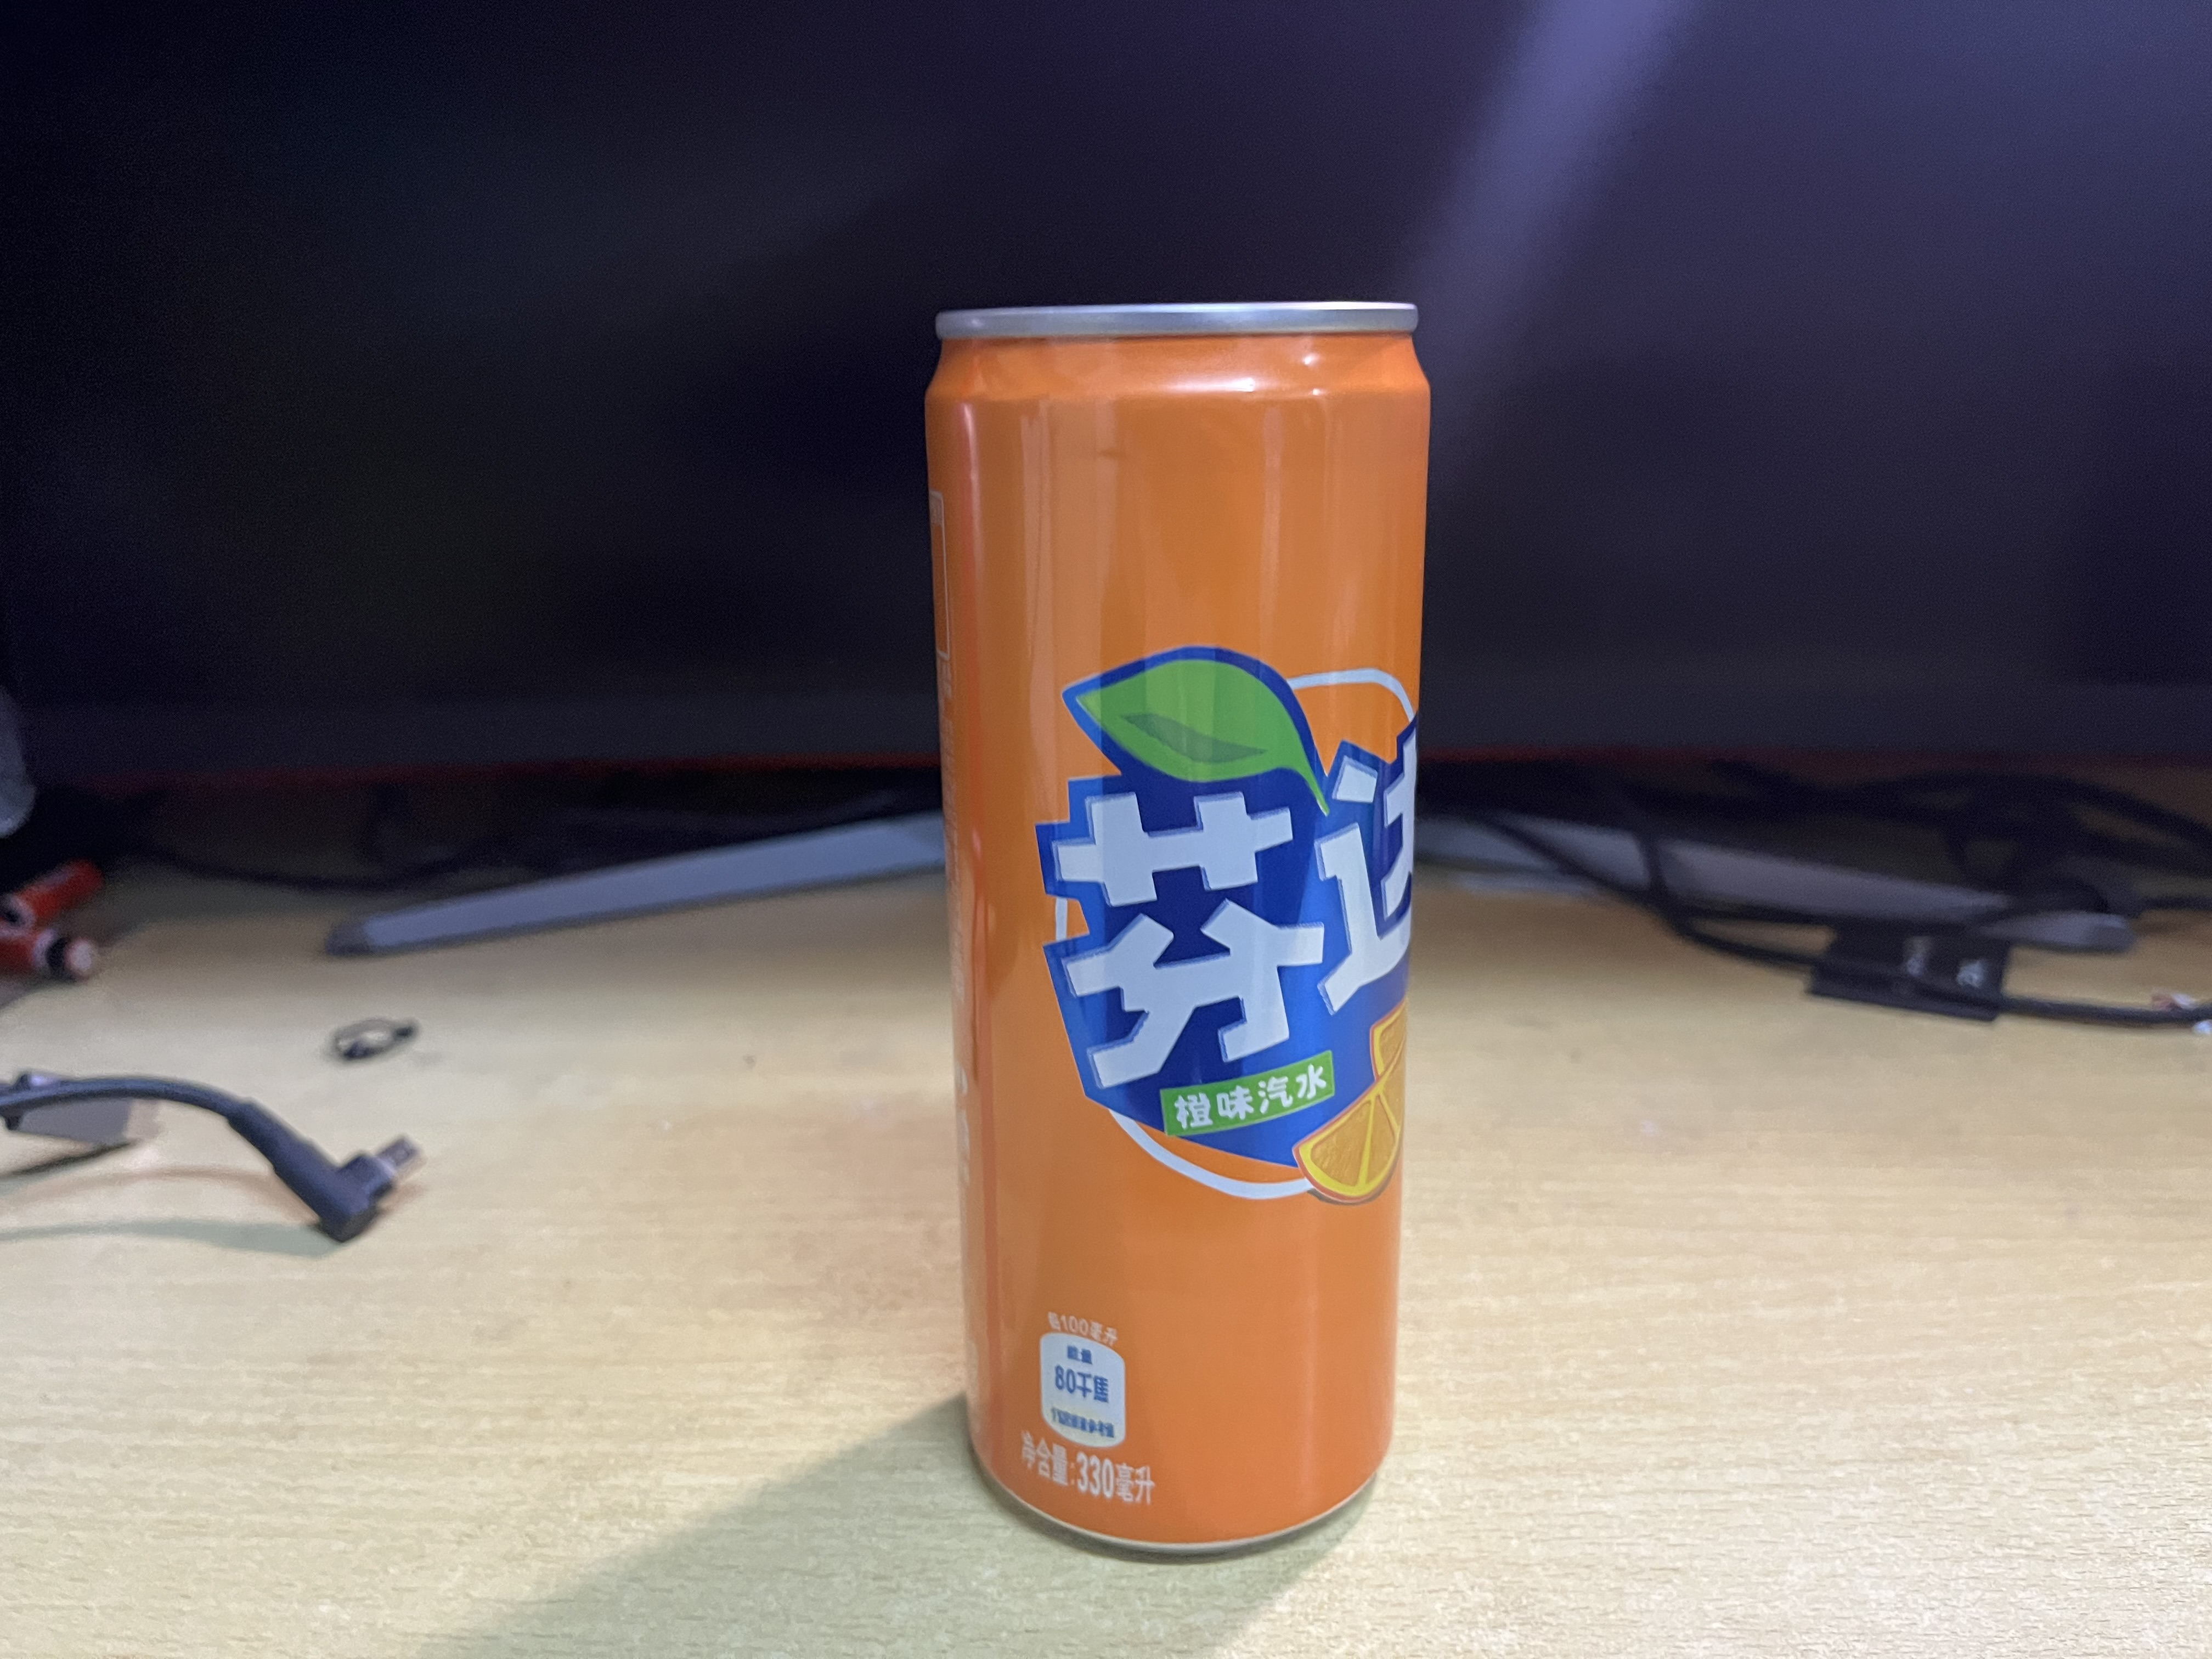FANTA_Orange: (923, 301, 1433, 1554)
